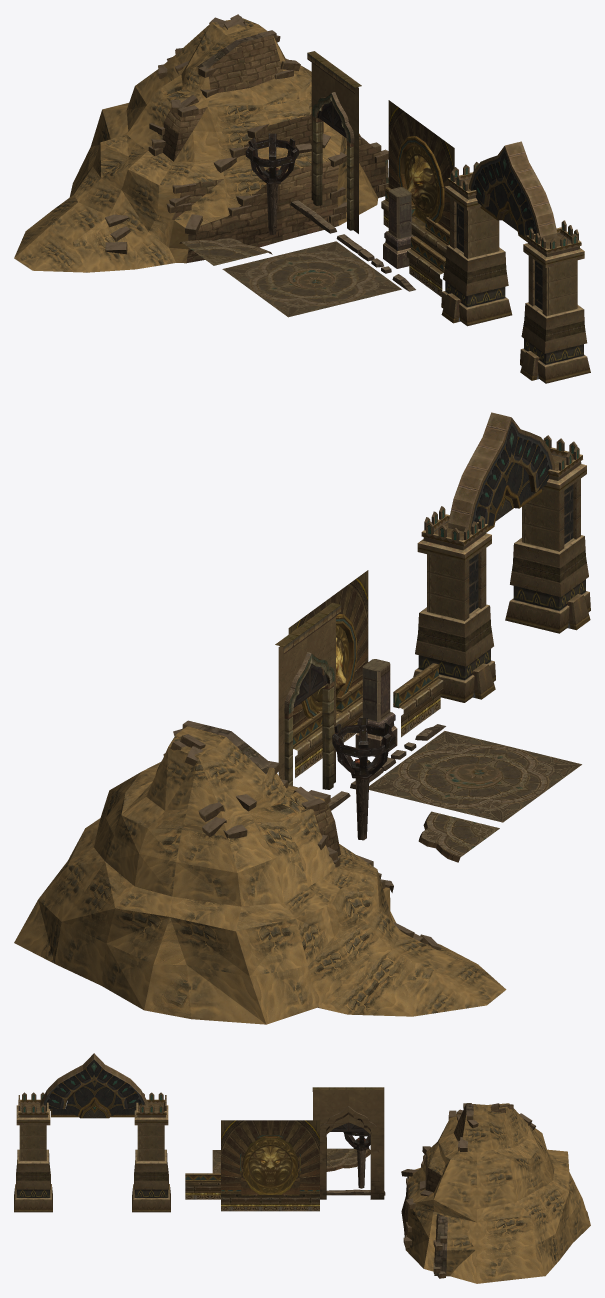
The model's file is hjzc_jz_wujian.FBX.
3 renders of one model, top to bottom at view 1: azimuth 30°, elevation 25°; view 2: azimuth 150°, elevation 25°; view 3: azimuth 270°, elevation 25°, orthographic. The views are drawn at different scales.
Parts seen in each view (by area): view 1: hjzc_thing_shanshii_001, hjzc_jz_bossmen001, hjzc_jz_dihua001, hjzc_jz_qiangti001, hjzc_jz_men001, hjzc_thing_shanshii_002, hjzc_thing_huoba01, hjzc_jz_qiangti002, hjzc_jz_dihua002, hjzc_jz_qiangti004, hjzc_jz_qiangti003; view 2: hjzc_thing_shanshii_002, hjzc_thing_shanshii_001, hjzc_jz_bossmen001, hjzc_jz_dihua001, hjzc_jz_men001, hjzc_jz_qiangti001, hjzc_thing_huoba01, hjzc_jz_dihua002, hjzc_jz_qiangti002, hjzc_jz_qiangti004; view 3: hjzc_thing_shanshii_001, hjzc_jz_bossmen001, hjzc_jz_qiangti001, hjzc_thing_shanshii_002, hjzc_jz_men001, hjzc_jz_qiangti002, hjzc_jz_dihua002, hjzc_thing_huoba01.
Part boxes in pixels (bbox=[...]): hjzc_thing_shanshii_001: bbox=[14, 24, 388, 272]; hjzc_jz_bossmen001: bbox=[441, 141, 590, 383]; hjzc_jz_dihua001: bbox=[222, 241, 401, 317]; hjzc_jz_qiangti001: bbox=[381, 100, 454, 267]; hjzc_jz_men001: bbox=[307, 51, 361, 233]; hjzc_thing_shanshii_002: bbox=[69, 14, 258, 197]; hjzc_thing_huoba01: bbox=[245, 133, 298, 235]; hjzc_jz_qiangti002: bbox=[407, 236, 445, 297]; hjzc_jz_dihua002: bbox=[179, 238, 272, 265]; hjzc_jz_qiangti004: bbox=[388, 187, 411, 238]; hjzc_jz_qiangti003: bbox=[383, 231, 413, 268]; hjzc_thing_shanshii_002: bbox=[14, 734, 317, 1024]; hjzc_thing_shanshii_001: bbox=[39, 720, 506, 1016]; hjzc_jz_bossmen001: bbox=[413, 412, 590, 702]; hjzc_jz_dihua001: bbox=[369, 731, 581, 822]; hjzc_jz_men001: bbox=[275, 602, 341, 789]; hjzc_jz_qiangti001: bbox=[288, 570, 368, 777]; hjzc_thing_huoba01: bbox=[332, 718, 395, 840]; hjzc_jz_dihua002: bbox=[418, 811, 499, 862]; hjzc_jz_qiangti002: bbox=[393, 663, 443, 737]; hjzc_jz_qiangti004: bbox=[362, 659, 390, 721]; hjzc_thing_shanshii_001: bbox=[401, 1103, 545, 1283]; hjzc_jz_bossmen001: bbox=[14, 1053, 170, 1212]; hjzc_jz_qiangti001: bbox=[221, 1120, 319, 1211]; hjzc_thing_shanshii_002: bbox=[487, 1103, 590, 1275]; hjzc_jz_men001: bbox=[312, 1087, 384, 1199]; hjzc_jz_qiangti002: bbox=[185, 1173, 220, 1199]; hjzc_jz_dihua002: bbox=[326, 1148, 370, 1171]; hjzc_thing_huoba01: bbox=[343, 1132, 370, 1188].
Size of the model in its own units: 1611 by 2915 by 1017.
